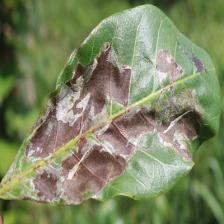leaf miner: (8, 83, 207, 204), (22, 41, 140, 172), (147, 40, 213, 93)
